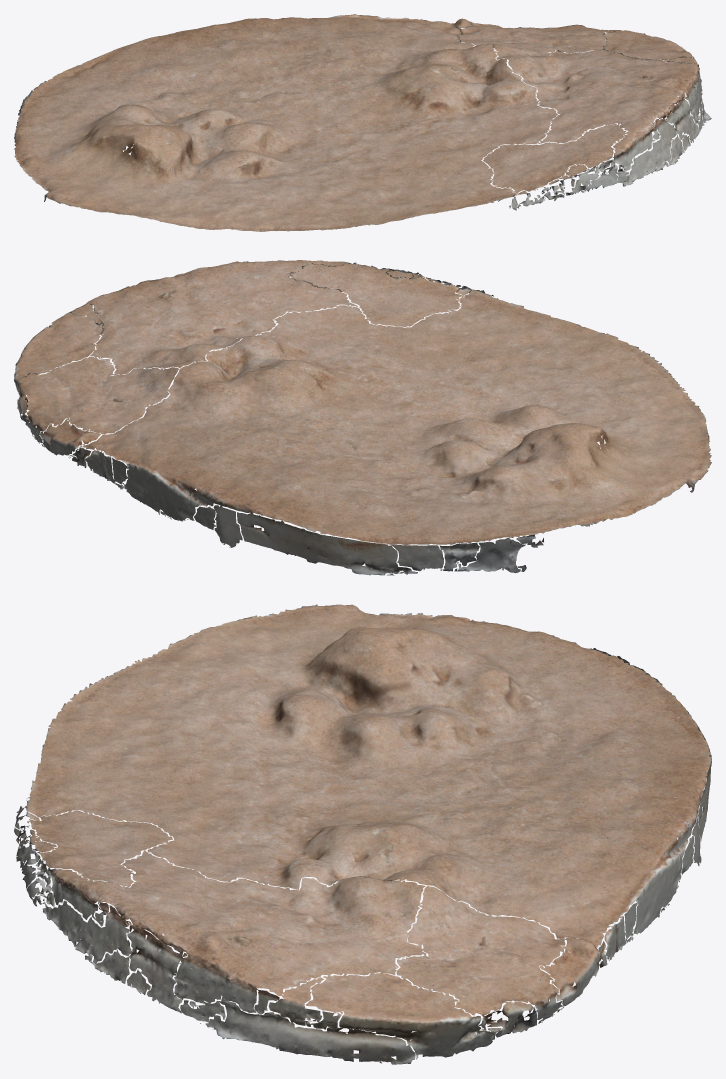
The model's file is modelo4.glb.
3 views of the same model, one above another, from view 1: azimuth 30°, elevation 25°; view 2: azimuth 150°, elevation 25°; view 3: azimuth 270°, elevation 25° (orthographic). The views are drawn at different scales.
Parts seen in each view (by area): view 1: ghunlpam-29818; view 2: ghunlpam-29818; view 3: ghunlpam-29818.
Part boxes in pixels (x1,y1,x2,y2): ghunlpam-29818: [14, 14, 711, 231]; ghunlpam-29818: [14, 260, 711, 575]; ghunlpam-29818: [14, 604, 711, 1064].
Bounding box in the file's own units: 0.9969 × 0.1194 × 0.7326.
Materials: 1 (1 with a texture image).
